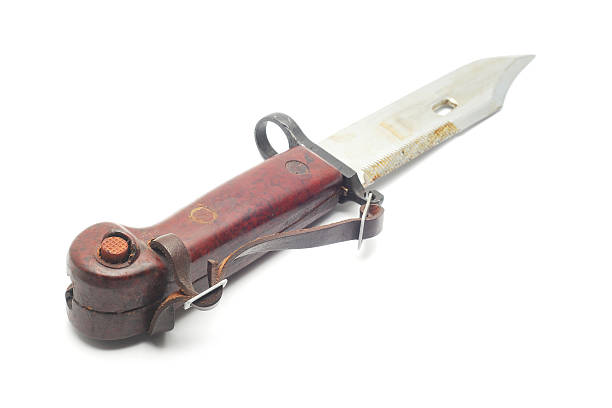knife: (62, 50, 540, 352)
